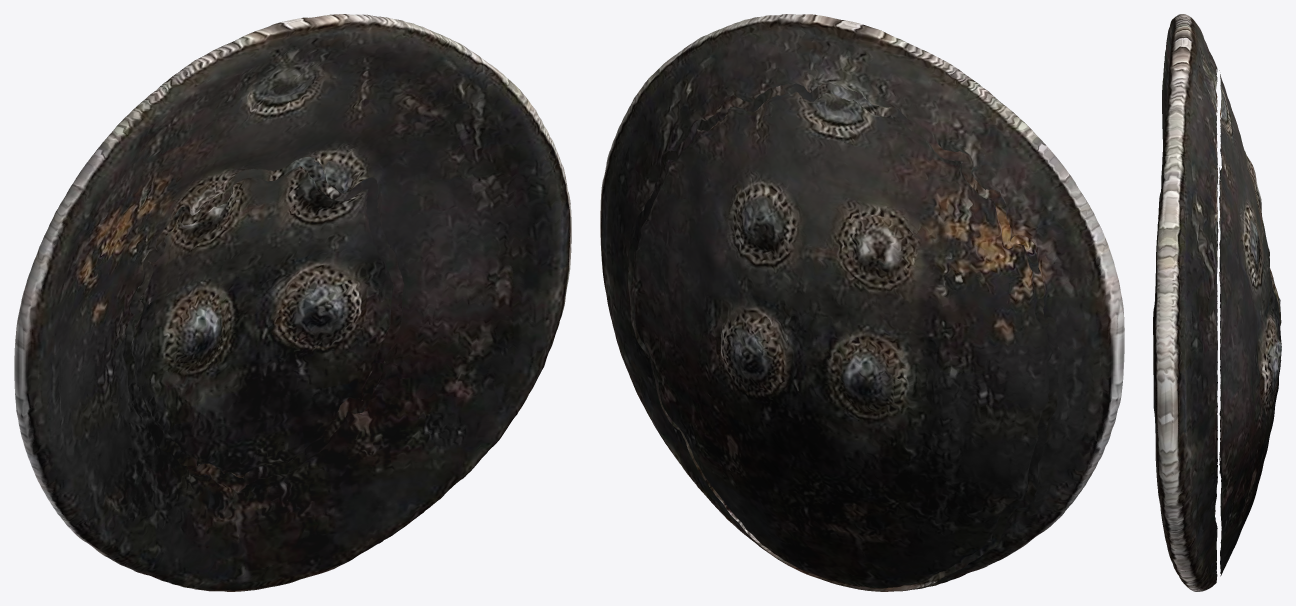
Rendered from kfl-2131.glb.
3 views of the same model, side by side, from view 1: azimuth 30°, elevation 25°; view 2: azimuth 150°, elevation 25°; view 3: azimuth 270°, elevation 25° (orthographic). The views are drawn at different scales.
Visible parts, largest first — view 1: geometry_0; view 2: geometry_0; view 3: geometry_0.
Part boxes in pixels (left/top/right/bottom): geometry_0: left=14, top=14, right=571, bottom=591; geometry_0: left=600, top=14, right=1124, bottom=591; geometry_0: left=1153, top=14, right=1281, bottom=591.
Size of the model in its own units: 0.9911 by 0.9921 by 0.2196.
1 material, 1 textured.
